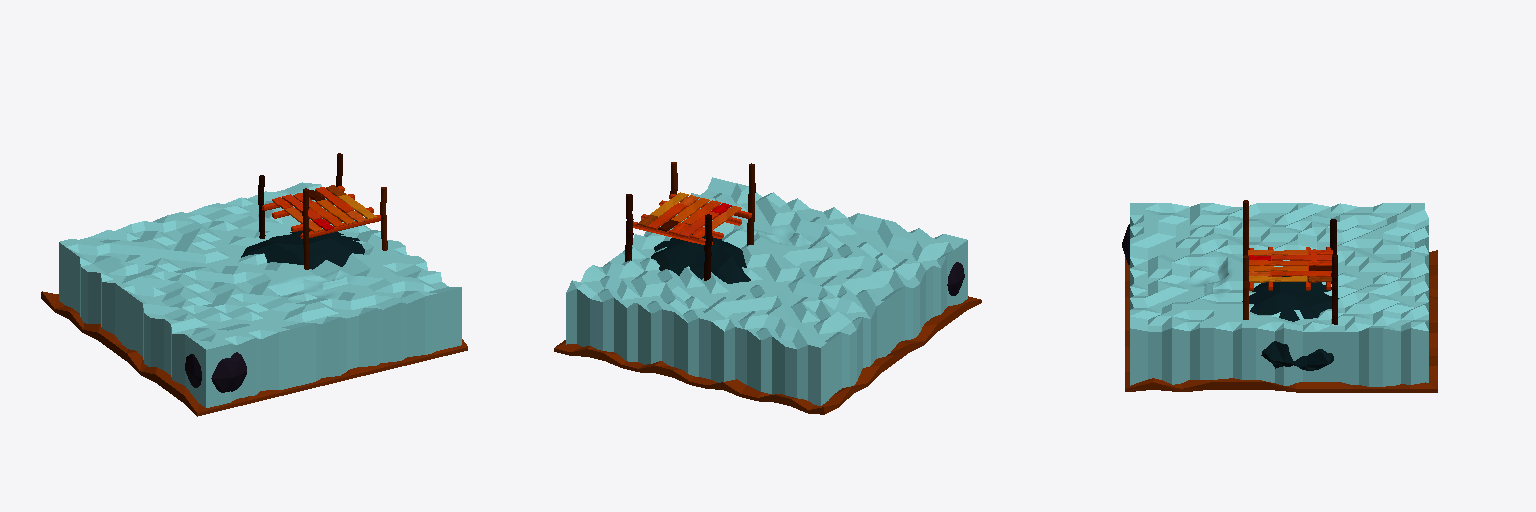
Rendered from Terrain3.obj.
3 views of the same model, side by side, from view 1: azimuth 30°, elevation 25°; view 2: azimuth 150°, elevation 25°; view 3: azimuth 270°, elevation 25° (orthographic).
Parts seen in each view (by area): view 1: Plane, Cube, Icosphere, Icosphere.001, Cube.009; view 2: Plane, Cube, Icosphere, Cube.009, Cylinder; view 3: Plane, Cube, Icosphere.
Boxes of the visible parts, x1=… form: Plane: x1=59, y1=182, x2=461, y2=407; Cube: x1=41, y1=291, x2=467, y2=416; Icosphere: x1=241, y1=229, x2=364, y2=269; Icosphere.001: x1=185, y1=352, x2=246, y2=392; Cube.009: x1=262, y1=186, x2=380, y2=238; Plane: x1=566, y1=177, x2=967, y2=405; Cube: x1=554, y1=296, x2=981, y2=414; Icosphere: x1=651, y1=234, x2=750, y2=283; Cube.009: x1=633, y1=194, x2=751, y2=244; Cylinder: x1=747, y1=163, x2=755, y2=245; Plane: x1=1130, y1=203, x2=1428, y2=386; Cube: x1=1125, y1=250, x2=1437, y2=392; Icosphere: x1=1242, y1=276, x2=1338, y2=370.
Bounding box in the file's own units: 60.25 × 29.83 × 60.63.